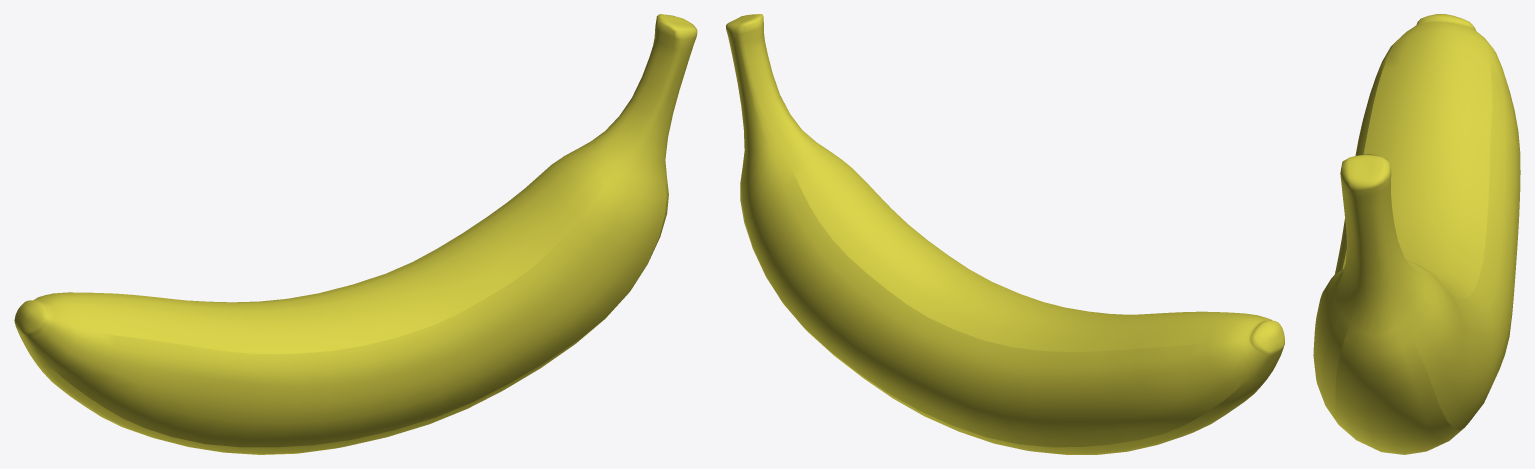
File: banana_lod1.fbx
3 views of the same model, side by side, from view 1: azimuth 30°, elevation 25°; view 2: azimuth 150°, elevation 25°; view 3: azimuth 270°, elevation 25° (orthographic). The views are drawn at different scales.
Parts seen in each view (by area): view 1: banana8; view 2: banana8; view 3: banana8.
Part boxes in pixels (x1,y1,x2,y2): banana8: (14, 14, 697, 454); banana8: (726, 14, 1284, 454); banana8: (1313, 14, 1520, 454).
Size of the model in its own units: 24.36 by 13.38 by 6.08.
